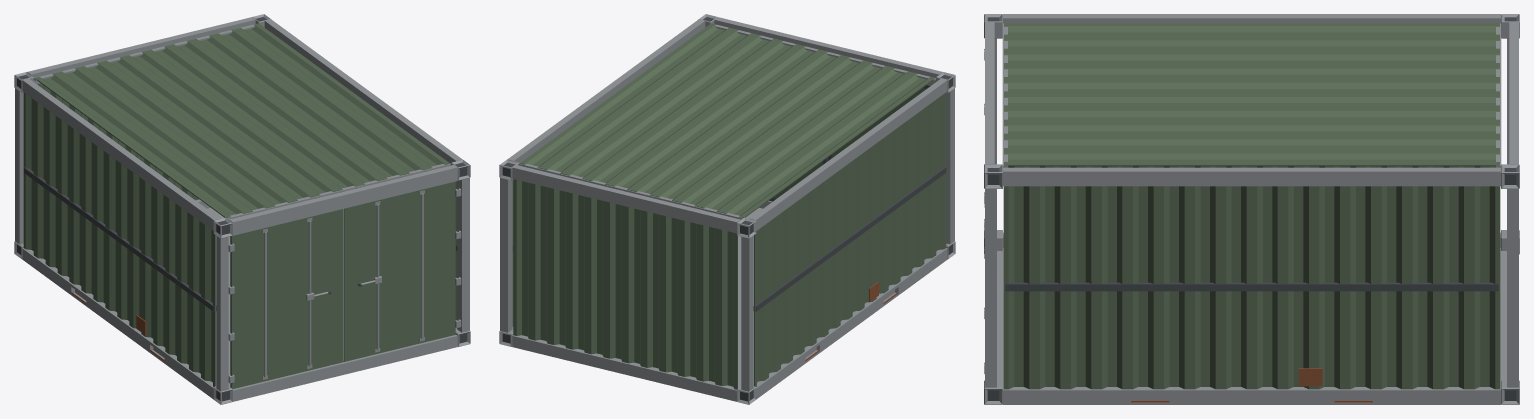
Rendered from cargo_container_intact_olive.glb.
3 views of the same model, side by side, from view 1: azimuth 30°, elevation 25°; view 2: azimuth 150°, elevation 25°; view 3: azimuth 270°, elevation 25° (orthographic). The views are drawn at different scales.
Visible parts, largest first — view 1: Container_Intact_Body; view 2: Container_Intact_Body; view 3: Container_Intact_Body.
Part boxes in pixels (x1,y1,x2,y2): Container_Intact_Body: [14, 14, 470, 404]; Container_Intact_Body: [499, 14, 955, 404]; Container_Intact_Body: [984, 14, 1519, 404].
Size of the model in its own units: 3.5 by 2.4 by 5.
